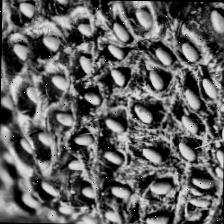Anthracnose Fruit Rot: (9, 0, 224, 224)
